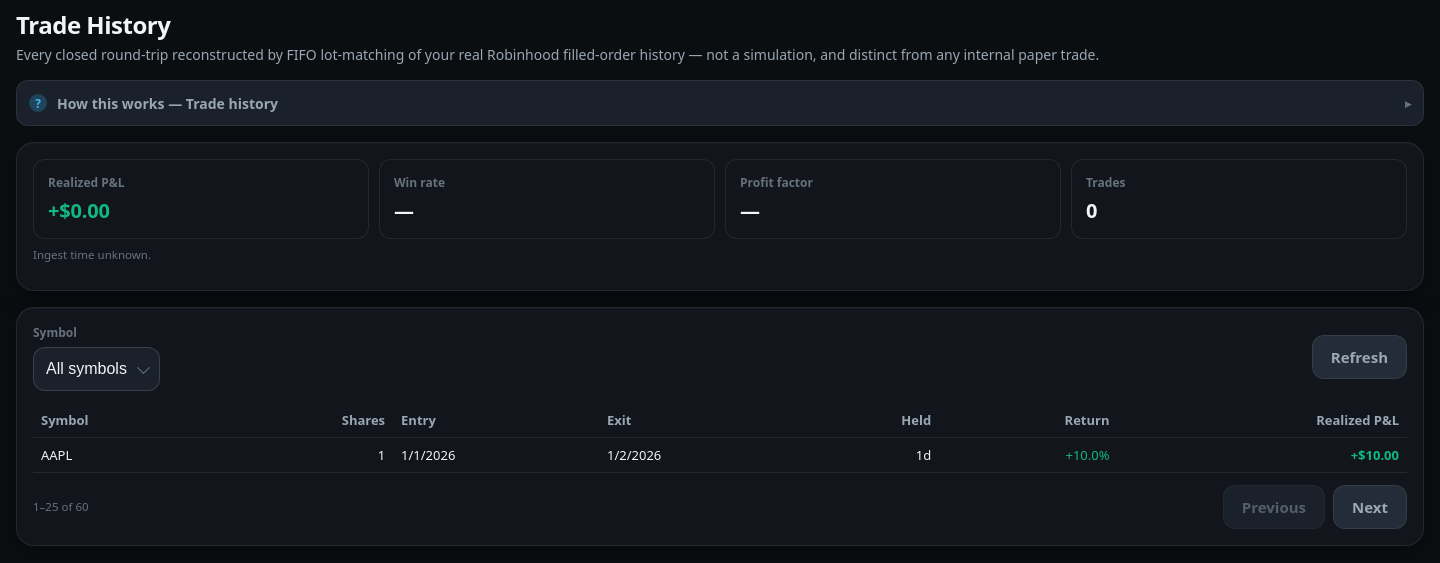
Test: TradeHistory screen (real mock API) › pagination: Next advances the offset, Previous is disabled on page 1
expect the text "1–25 of 60" is shown: met, box [33, 499, 88, 514]
expect the button "Previous" is disabled: met, box [1223, 484, 1325, 528]
Click the button "Next".
click(1370, 506)  # box [1333, 484, 1407, 528]
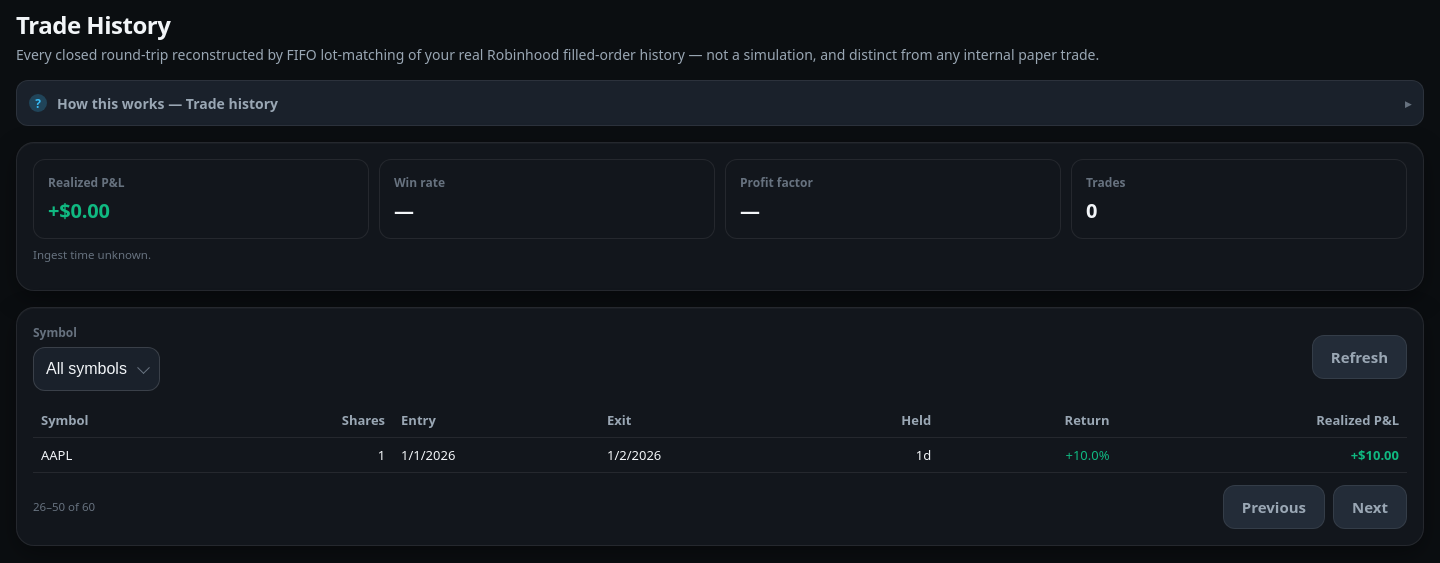
expect the text "26–50 of 60" is shown: met, box [33, 499, 95, 514]
expect the button "Previous" is enabled: met, box [1223, 484, 1325, 528]
